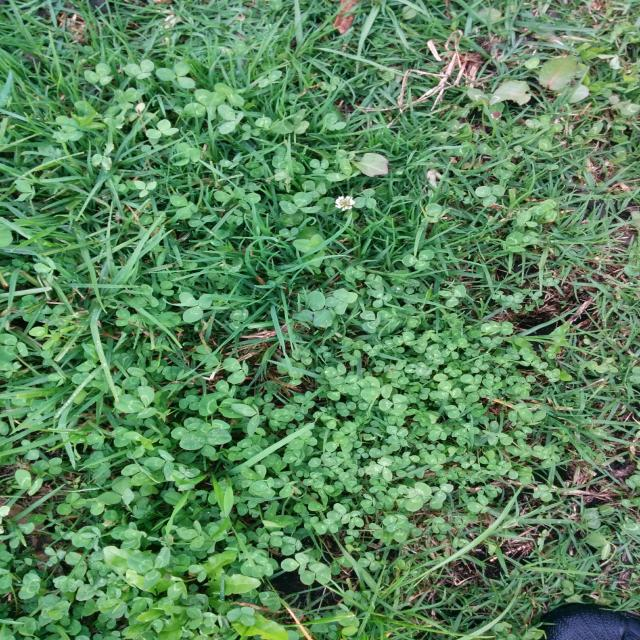Four Leaf Clover: (324, 288, 358, 315)
